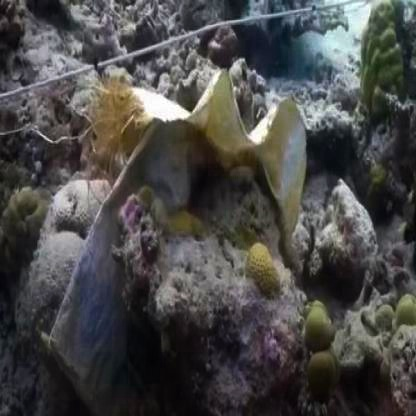plastic: (54, 55, 334, 294)
